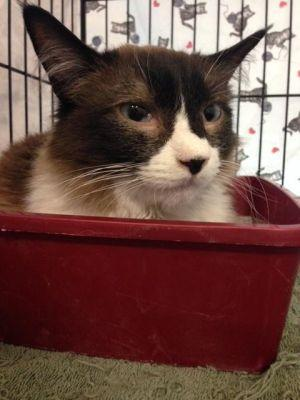ragdoll: (9, 1, 287, 218)
